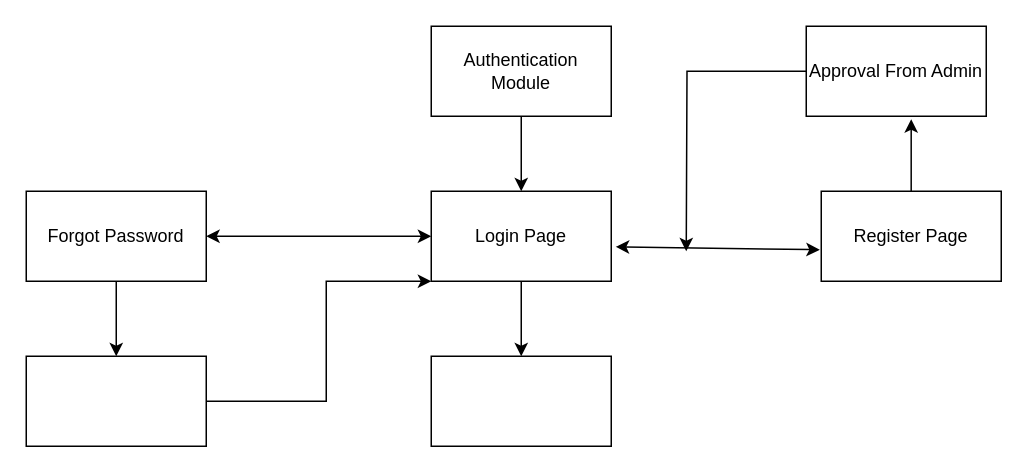
Some shapes in this 1028 by 473 pixel diagram are drawn without their labels. The centre of each missing label's shape, as x and y in pixels:
Home Page: (520,400)
Reset Password: (115,400)
